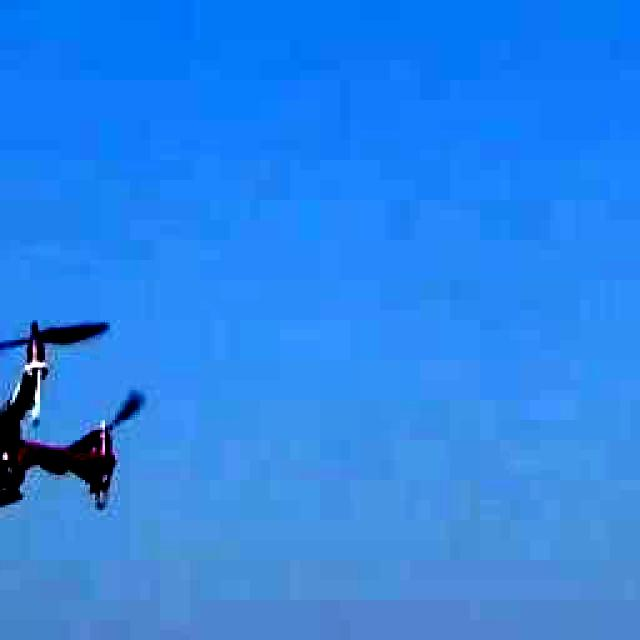bird: (0, 251, 165, 561)
